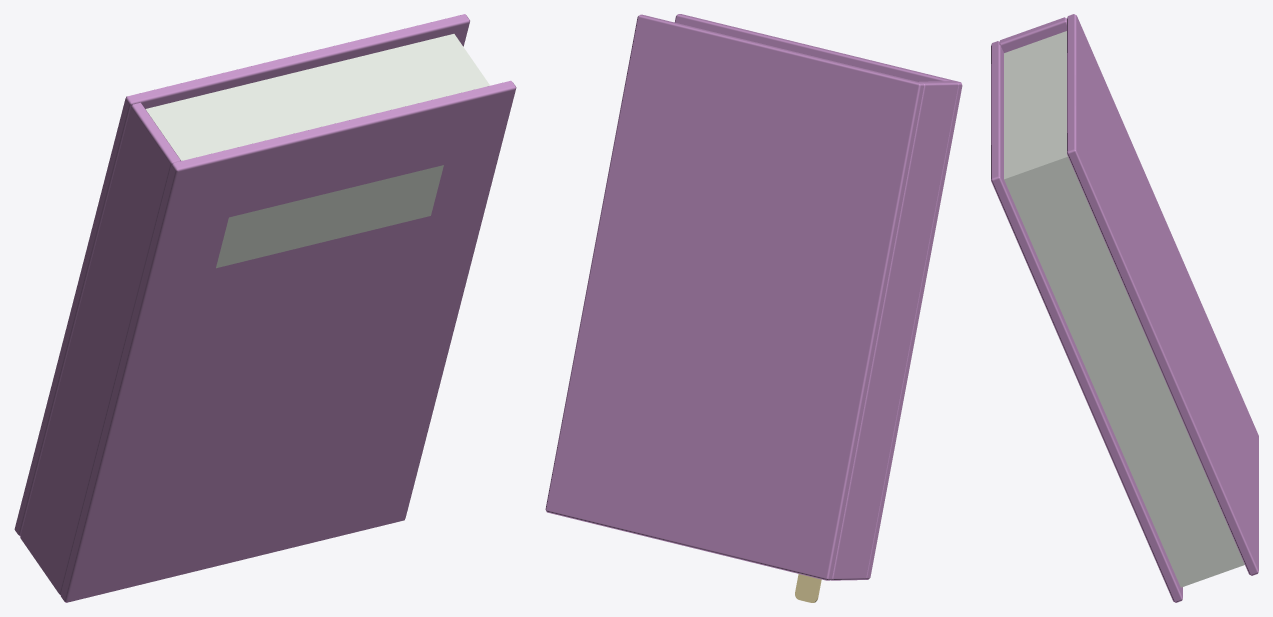
Rendered from book_2.glb.
3 renders of one model, left to right at view 1: azimuth 30°, elevation 25°; view 2: azimuth 150°, elevation 25°; view 3: azimuth 270°, elevation 25°, orthographic. The views are drawn at different scales.
Visible parts, largest first — view 1: coverback 2, coverback 3, Cube, Rectangle 2, coverback; view 2: coverback, coverback 3, coverback 2, Rectangle; view 3: Cube, coverback, coverback 2, coverback 3.
Boxes of the visible parts, bbox=[...] form: coverback 2: bbox=[61, 80, 516, 602]; coverback 3: bbox=[20, 102, 180, 595]; Cube: bbox=[145, 34, 489, 160]; Rectangle 2: bbox=[216, 165, 443, 268]; coverback: bbox=[14, 14, 469, 536]; coverback: bbox=[545, 14, 923, 580]; coverback 3: bbox=[830, 81, 958, 580]; coverback 2: bbox=[674, 14, 962, 579]; Rectangle: bbox=[795, 574, 821, 602]; Cube: bbox=[1004, 31, 1244, 587]; coverback: bbox=[1067, 14, 1258, 575]; coverback 2: bbox=[991, 41, 1182, 602]; coverback 3: bbox=[999, 17, 1066, 52].
Bounding box in the file's own units: 0.3288 × 0.5229 × 0.2719.
